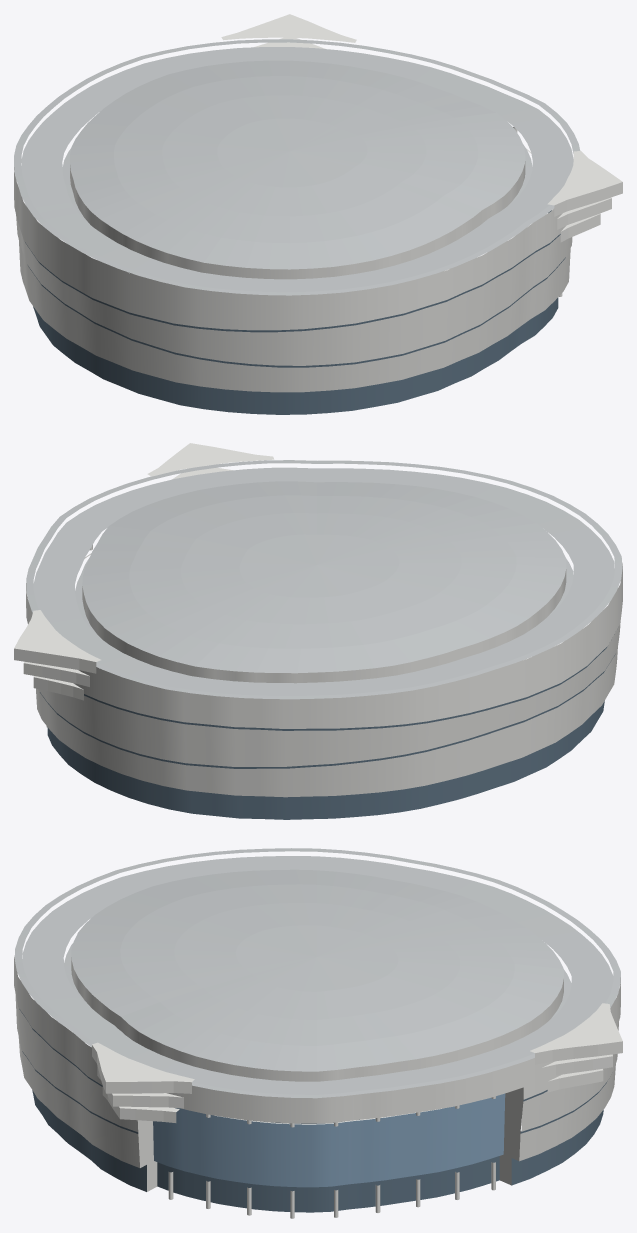
The model's file is sf-chase-center.glb.
3 renders of one model, top to bottom at view 1: azimuth 30°, elevation 25°; view 2: azimuth 150°, elevation 25°; view 3: azimuth 270°, elevation 25°, orthographic.
Visible parts, largest first — view 1: Chase Center; view 2: Chase Center; view 3: Chase Center.
Boxes of the visible parts, x1,y1,x2,y2 form: Chase Center: (14, 14, 622, 414); Chase Center: (14, 443, 622, 819); Chase Center: (14, 848, 622, 1218).
Bounding box in the file's own units: 156 × 41.6 × 160.
